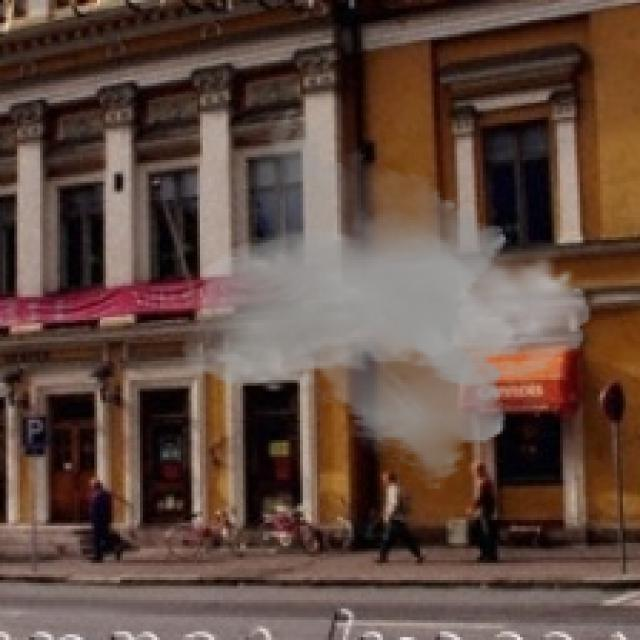Smoke: (179, 106, 592, 492)
